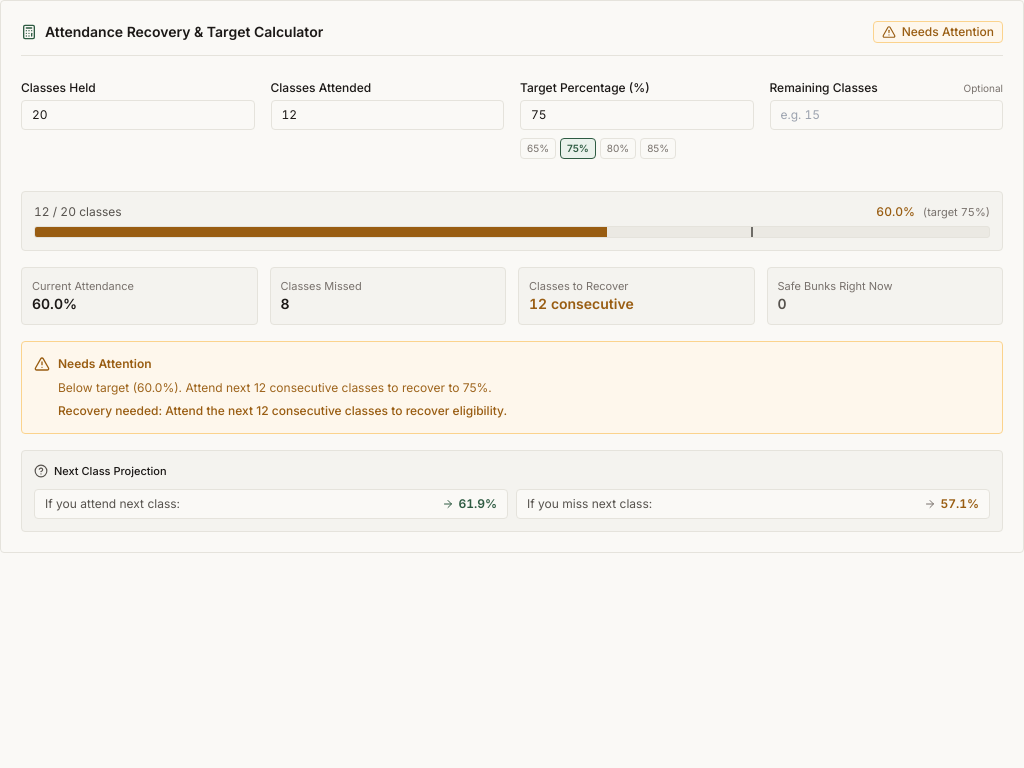
AttendanceCalculator Component › calculates exam feasibility when remaining classes are entered
Step 1. Type "20" into the number field labelled "Remaining Classes" → x=886, y=115, box [770,100,1003,130]
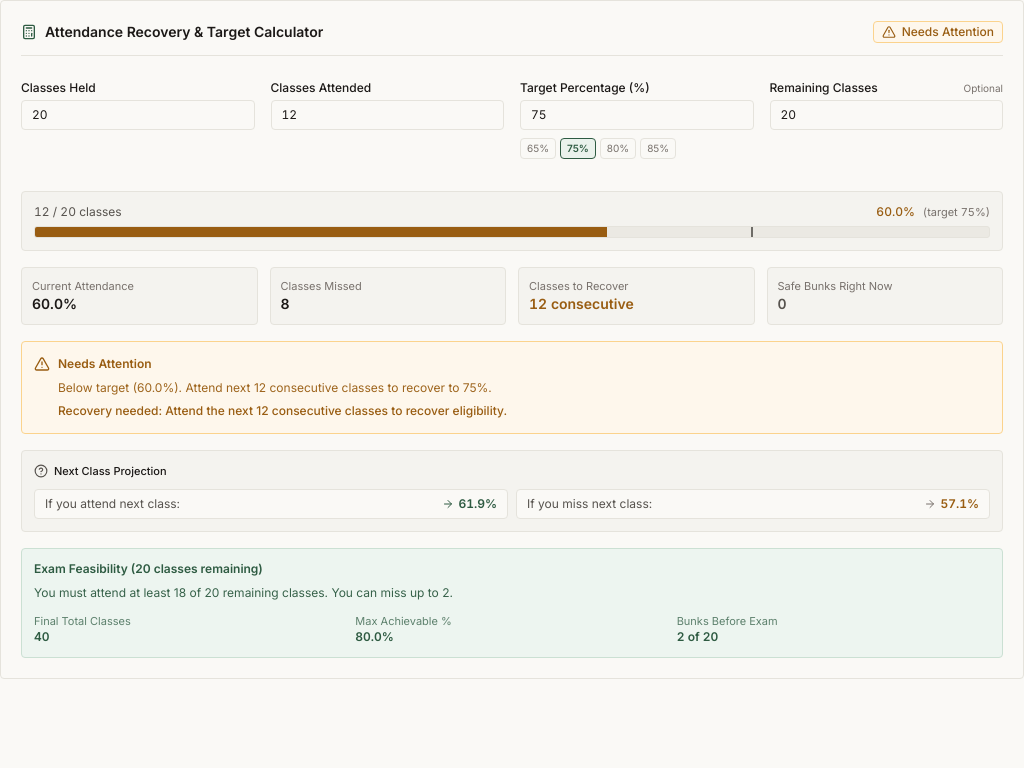
Expected: the text "Exam Feasibility (20 classes remaining)" is shown, [34,560,263,576]
Expected: the text "You must attend at least 18 of 20 remaining classes" is shown, [34,584,453,600]
